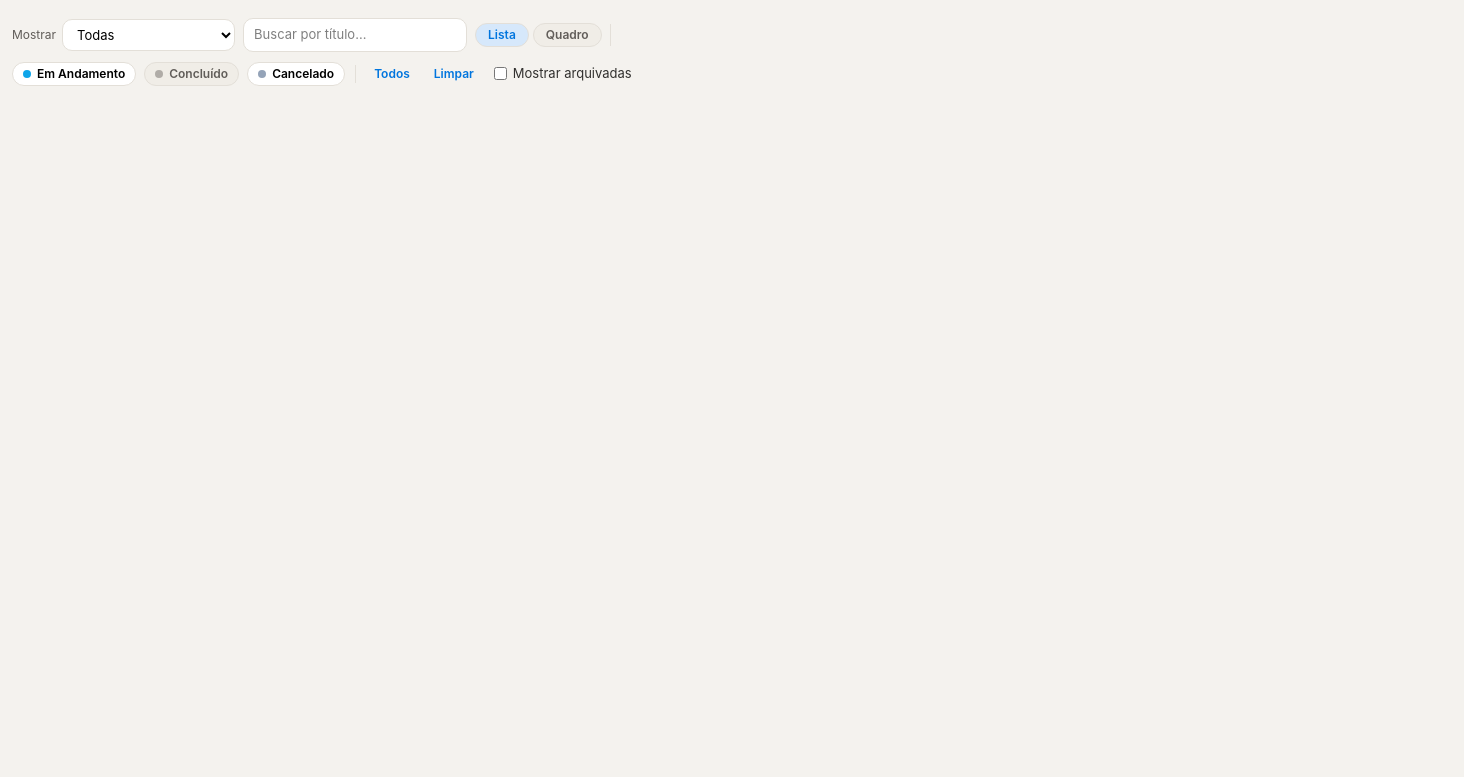
Test: minhas-tarefas -- o kanban le colunas da API (fatia 4c-2) › card em coluna desconhecida nao some em silencio
Click the button "Quadro" at (567,35), box left=533, top=23, right=602, bottom=47
(page scrolled)
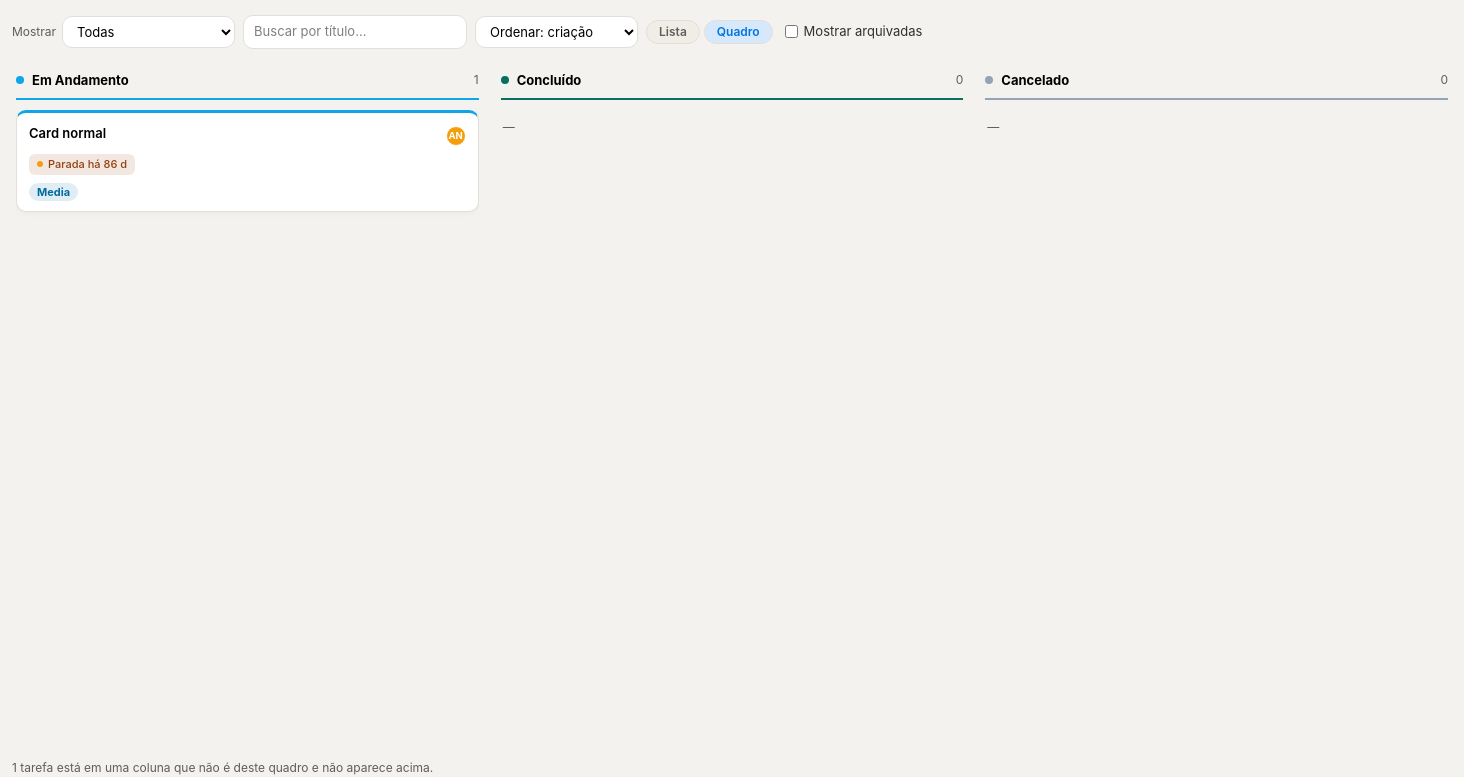
Result: the text "Card normal" is shown at left=29, top=125, right=106, bottom=141
Result: the text "1 tarefa está em uma coluna que não é deste quadro e não aparece acima." is shown at left=12, top=760, right=433, bottom=774
